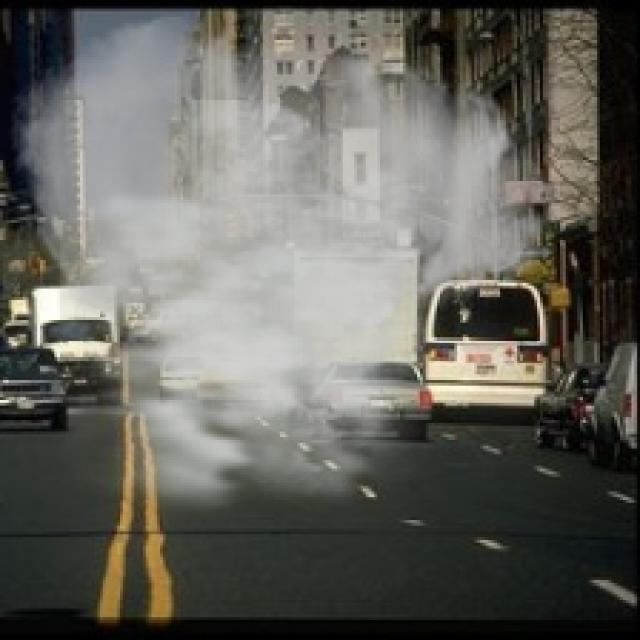Smoke: (6, 11, 552, 538)
